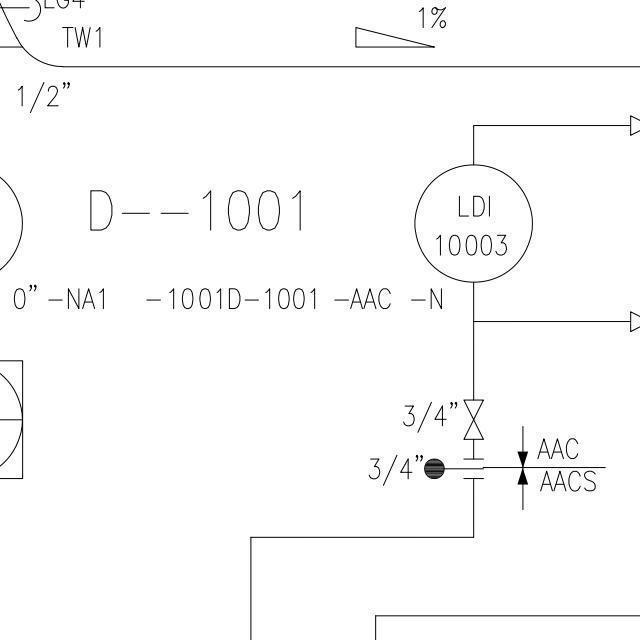GV: (462, 390, 488, 446)
